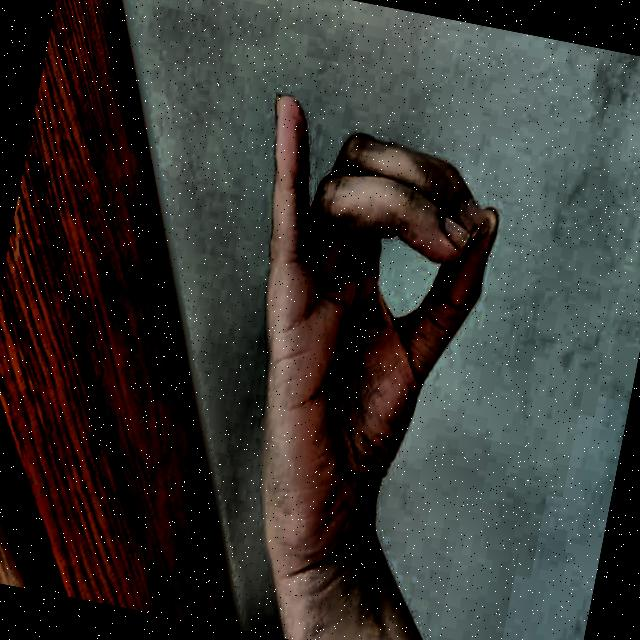Ou: (166, 64, 538, 612)
